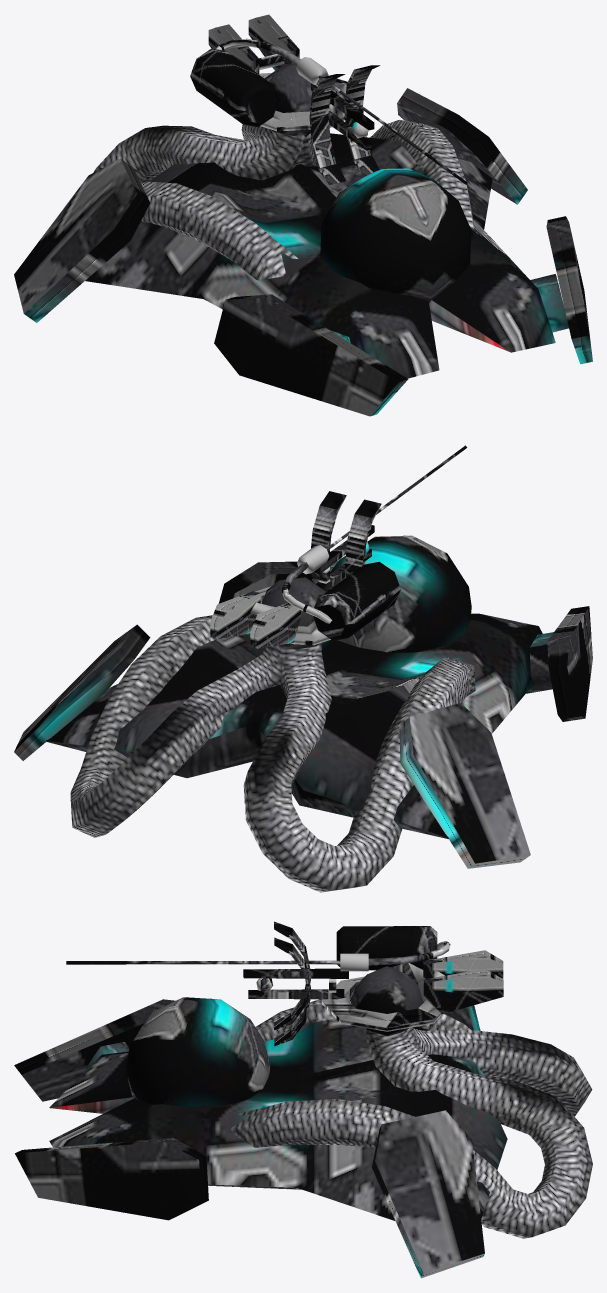
File: CottusElec.obj
3 views of the same model, one above another, from view 1: azimuth 30°, elevation 25°; view 2: azimuth 150°, elevation 25°; view 3: azimuth 270°, elevation 25° (orthographic). The views are drawn at different scales.
Parts seen in each view (by area): view 1: cottus_body01, cottus_electric_gun; view 2: cottus_body01, cottus_electric_gun; view 3: cottus_body01, cottus_electric_gun.
Part boxes in pixels (x1,y1,x2,y2): cottus_body01: (14, 63, 592, 416); cottus_electric_gun: (190, 14, 467, 185); cottus_body01: (14, 535, 592, 892); cottus_electric_gun: (210, 445, 466, 648); cottus_body01: (14, 966, 592, 1278); cottus_electric_gun: (66, 921, 503, 1046).
Size of the model in its own units: 75.6 by 37.36 by 79.64.
2 materials, 2 textured.
